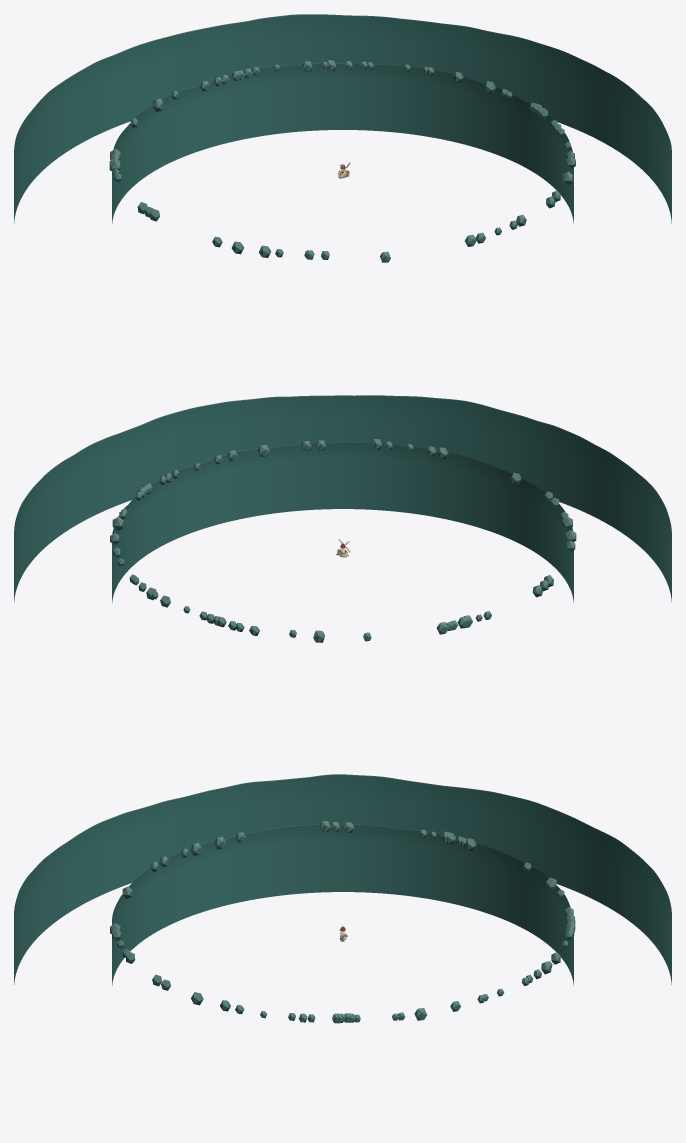
Rendered from first-steps.glb.
The picture shows the model from 3 angles, top to bottom: view 1: azimuth 30°, elevation 25°; view 2: azimuth 150°, elevation 25°; view 3: azimuth 270°, elevation 25°; orthographic projection.
Visible parts, largest first — view 1: horizon-far, horizon-near; view 2: horizon-far, horizon-near; view 3: horizon-far, horizon-near.
Boxes of the visible parts, x1,y1,x2,y2 form: horizon-far: (14, 14, 671, 223); horizon-near: (109, 60, 575, 262); horizon-far: (14, 395, 671, 602); horizon-near: (110, 439, 576, 642); horizon-far: (14, 774, 671, 984); horizon-near: (110, 821, 575, 1023).
Size of the model in its own units: 470 by 60.47 by 470.
28 materials, 26 textured.
